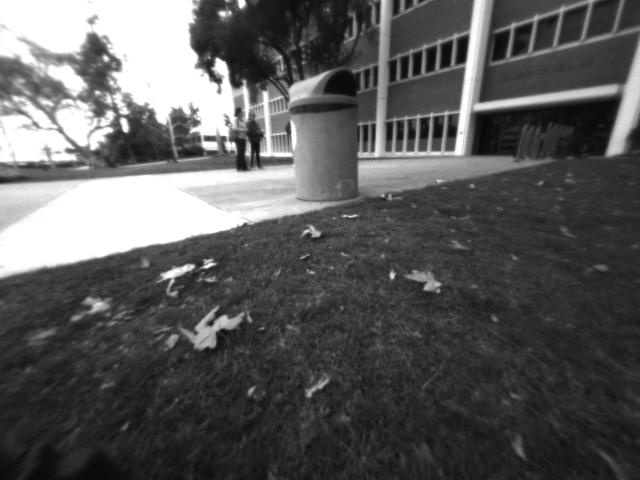trashcan: (280, 65, 367, 205)
